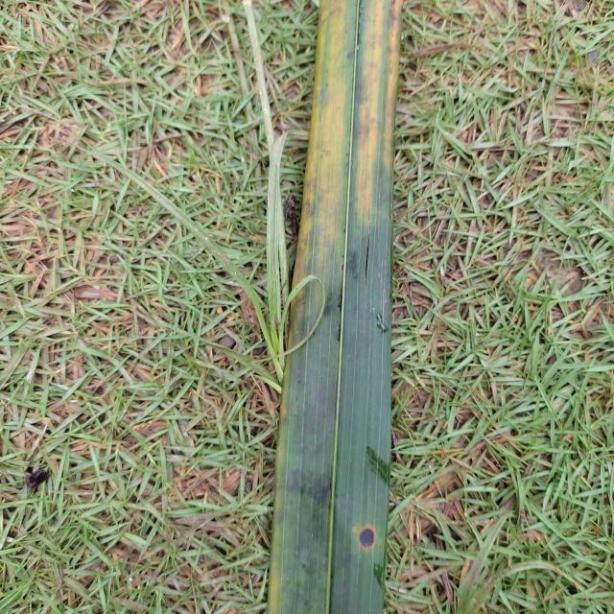Megnesium: (262, 0, 400, 614)
